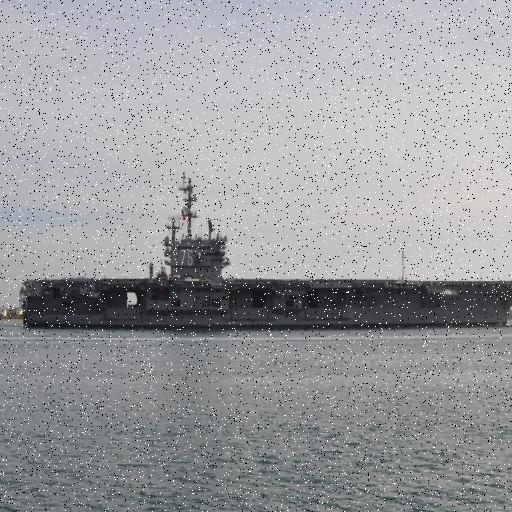Portanaves: (20, 169, 512, 334)
